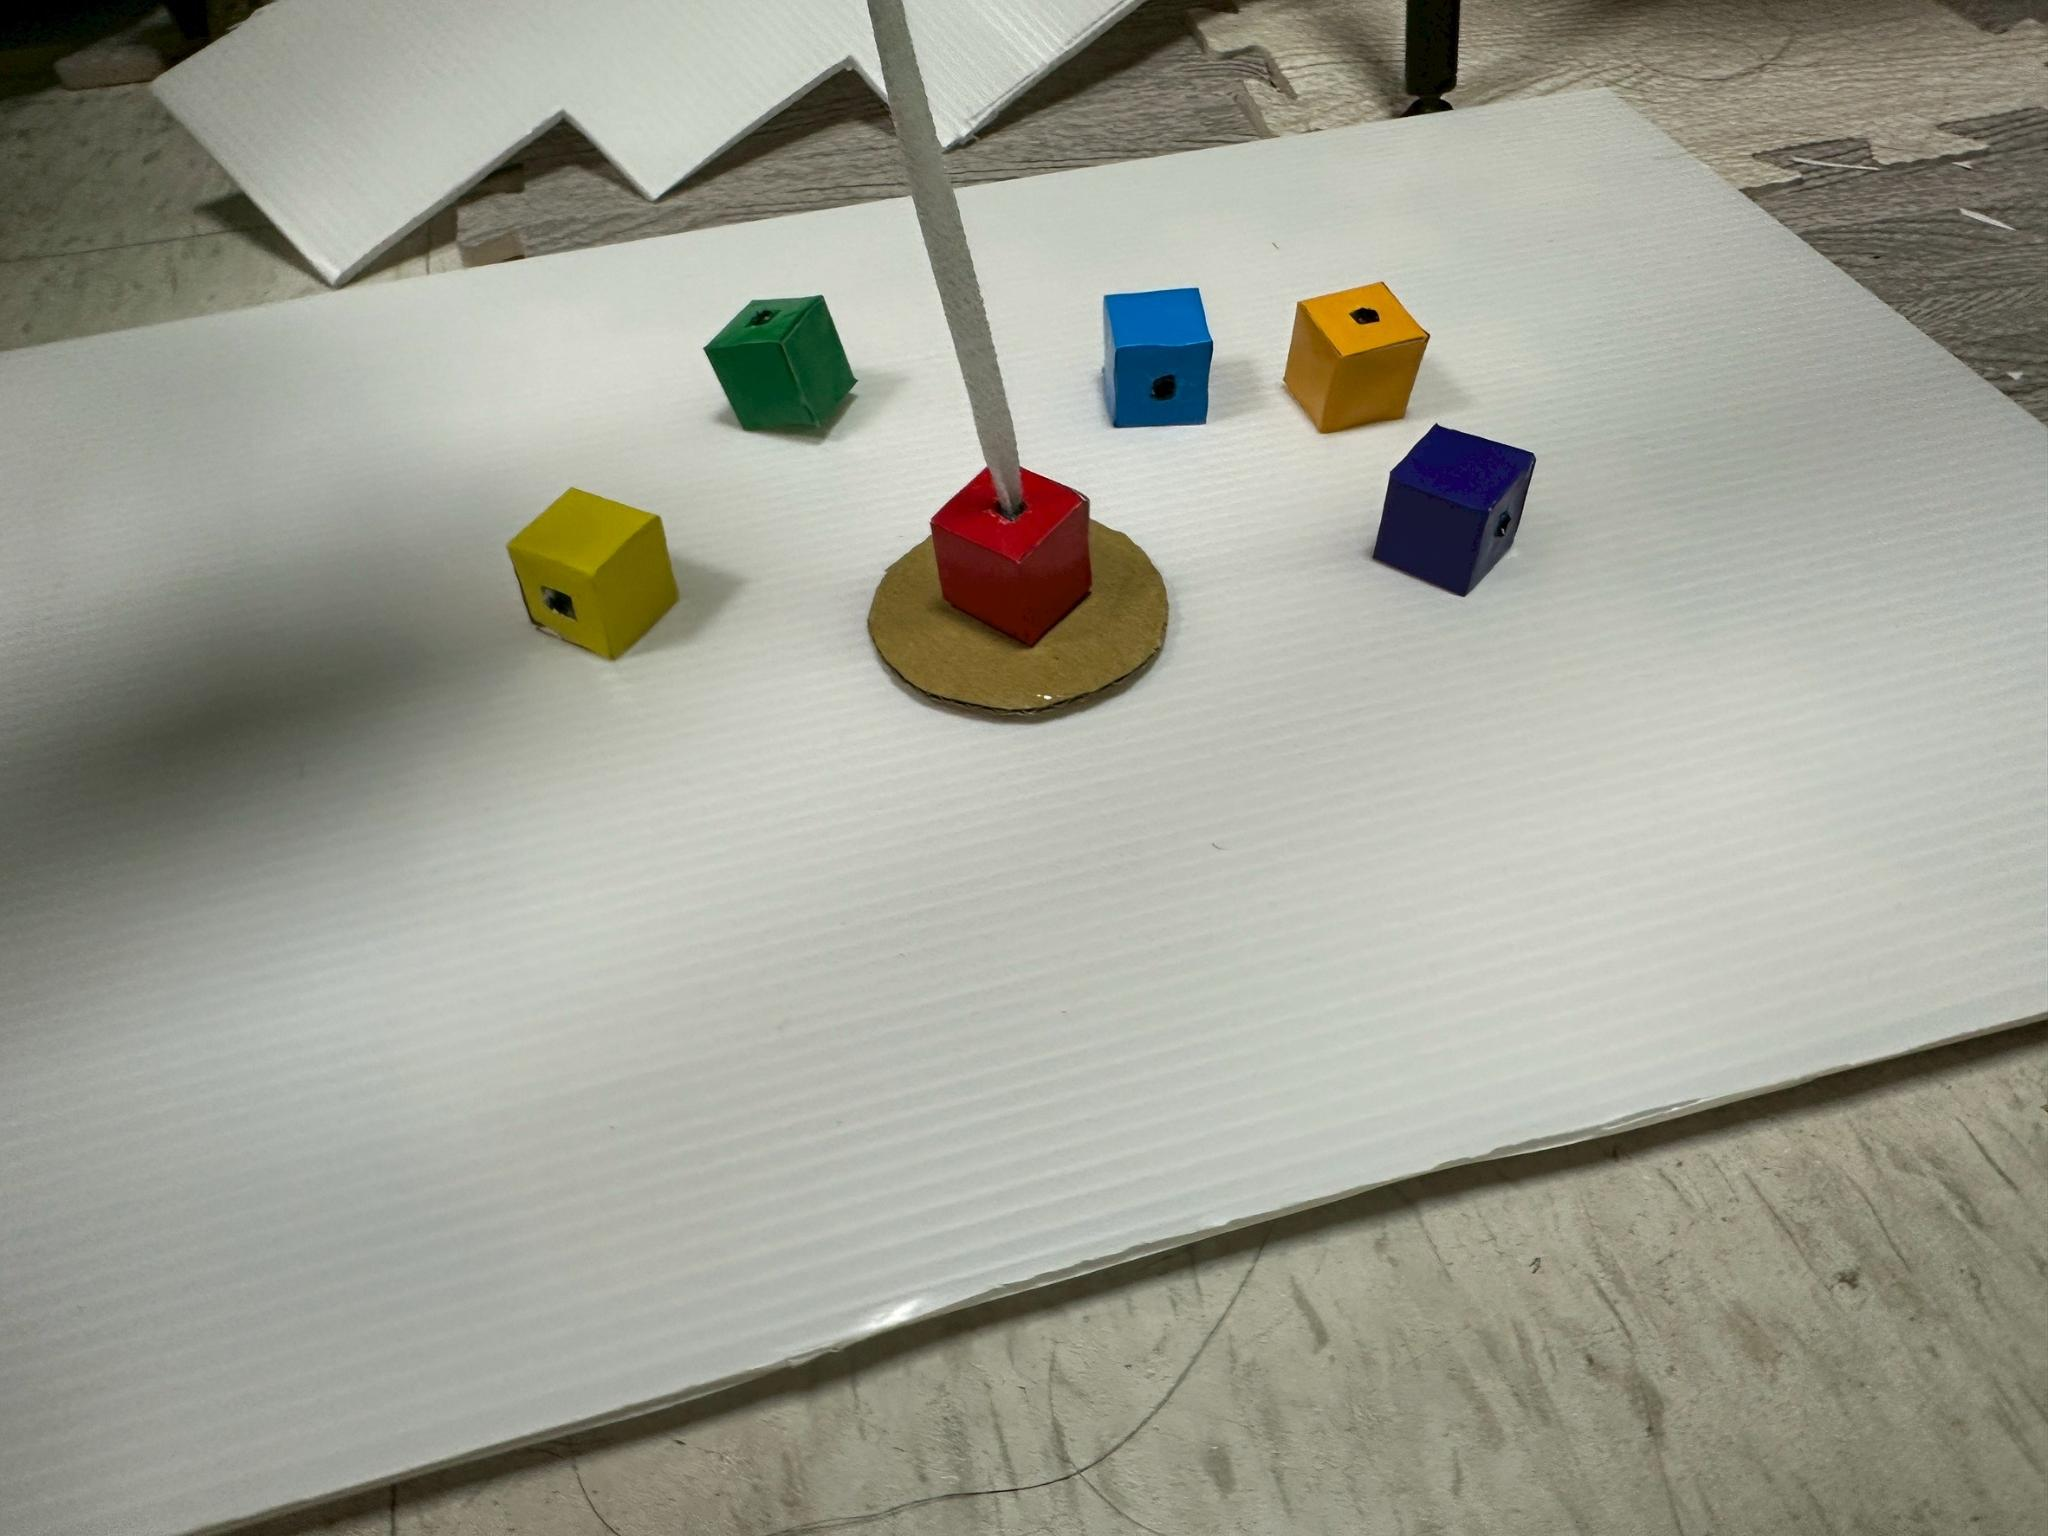base: (869, 523, 1169, 712)
cube: (508, 489, 677, 660), (932, 468, 1090, 647), (1374, 424, 1534, 595), (1284, 284, 1427, 432), (705, 295, 856, 429), (1105, 287, 1213, 428)
